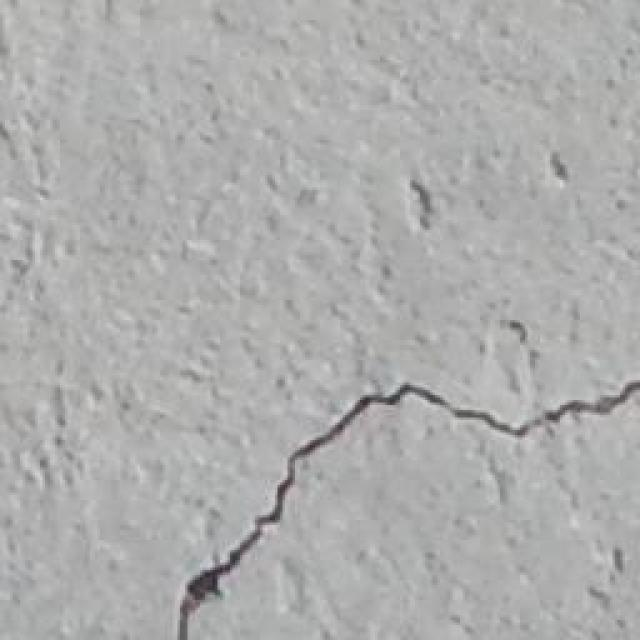concrete-crack: (178, 382, 640, 640)
